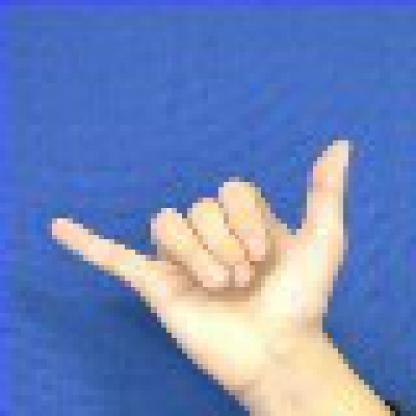six: (33, 128, 408, 415)
